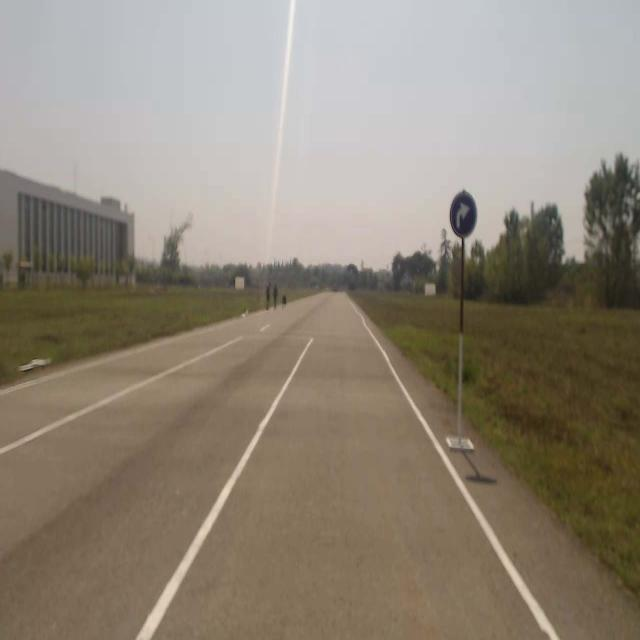sag: (450, 192, 476, 238)
